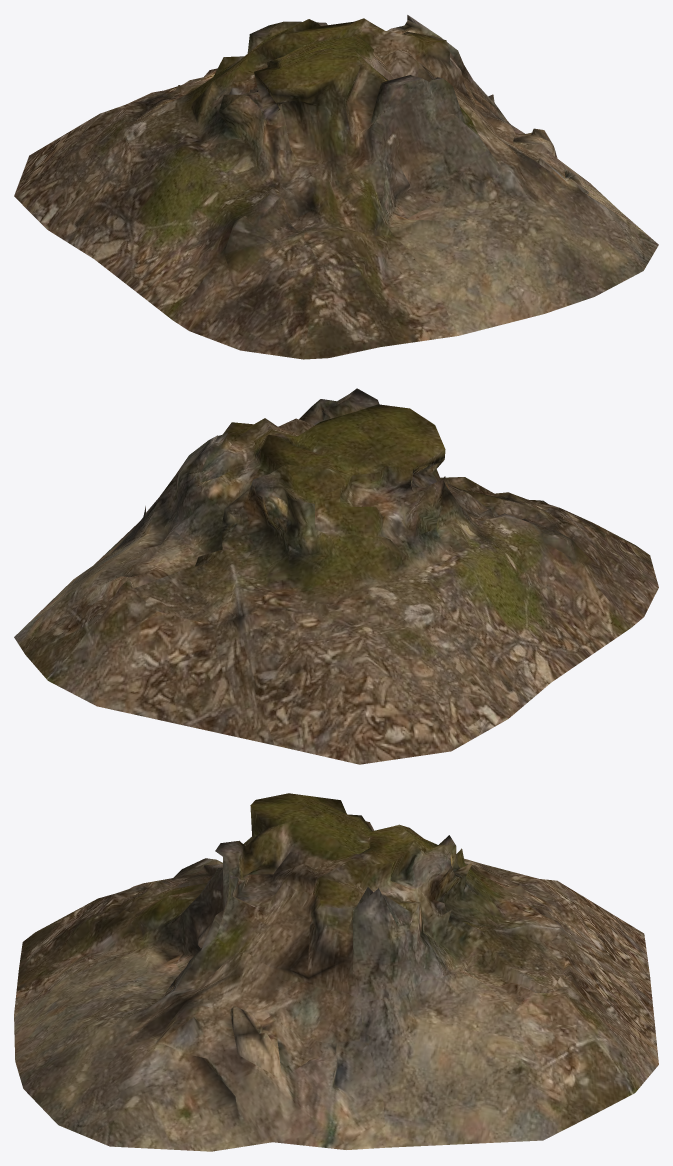
Rendered from souche.glb.
3 views of the same model, one above another, from view 1: azimuth 30°, elevation 25°; view 2: azimuth 150°, elevation 25°; view 3: azimuth 270°, elevation 25° (orthographic). The views are drawn at different scales.
Visible parts, largest first — view 1: tree_stump_01; view 2: tree_stump_01; view 3: tree_stump_01.
Boxes of the visible parts, box(x1,y1,x2,y2) form: tree_stump_01: box(14, 15, 658, 359); tree_stump_01: box(14, 388, 658, 764); tree_stump_01: box(14, 793, 658, 1151).
Size of the model in its own units: 1.43 by 0.5646 by 1.59.
Materials: 1 (1 with a texture image).
